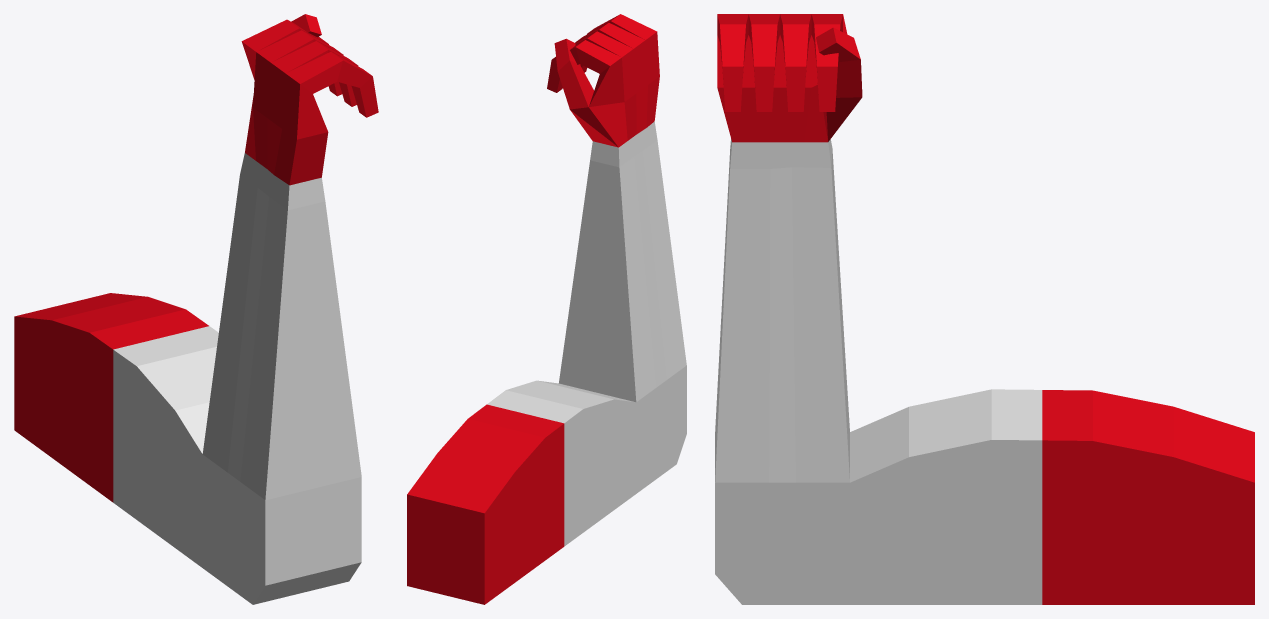
Rendered from P1TestArm.fbx.
3 renders of one model, left to right at view 1: azimuth 30°, elevation 25°; view 2: azimuth 150°, elevation 25°; view 3: azimuth 270°, elevation 25°, orthographic. The views are drawn at different scales.
Parts seen in each view (by area): view 1: Cube; view 2: Cube; view 3: Cube.
Part boxes in pixels (x1=…): Cube: x1=14, y1=14, x2=378, y2=604; Cube: x1=407, y1=14, x2=686, y2=604; Cube: x1=715, y1=14, x2=1254, y2=604.
Bounding box in the file's own units: 217 × 943 × 800.
